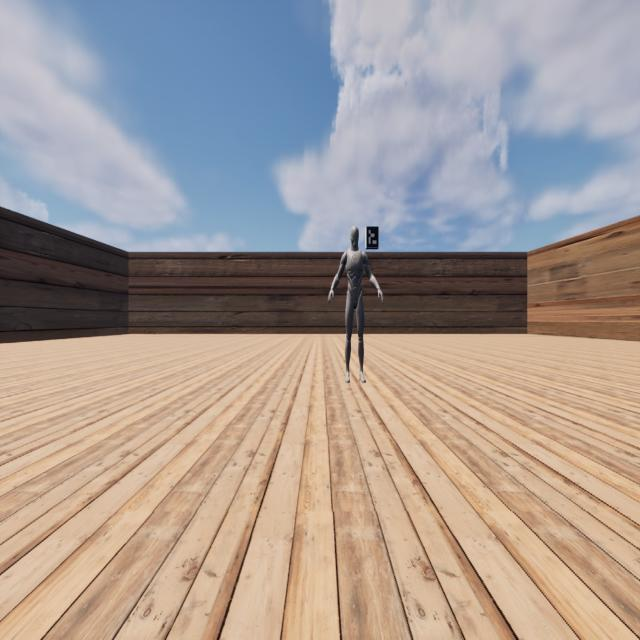aruco: (366, 227, 378, 248)
hip: (347, 291, 362, 299)
